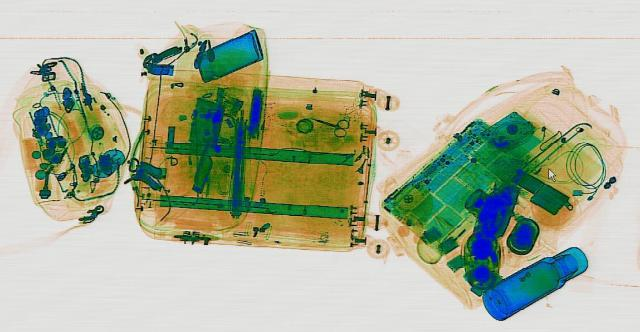Scissors: (298, 109, 362, 137)
